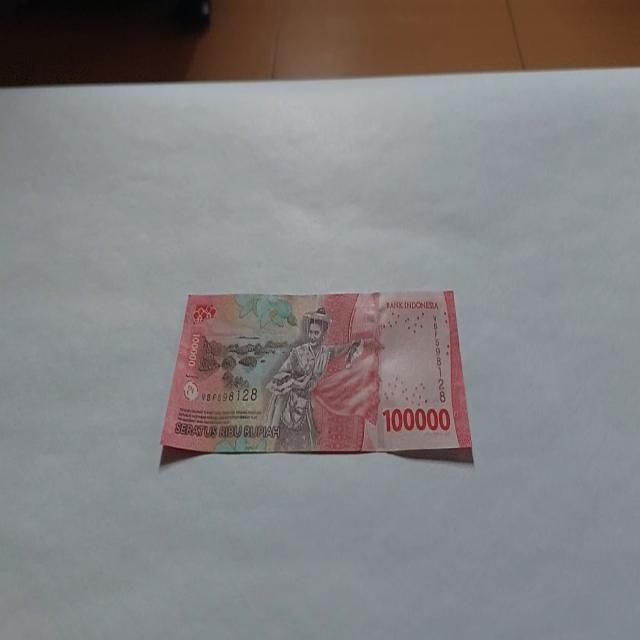seratus ribu rupiah: (158, 288, 474, 465), (260, 304, 362, 452)
